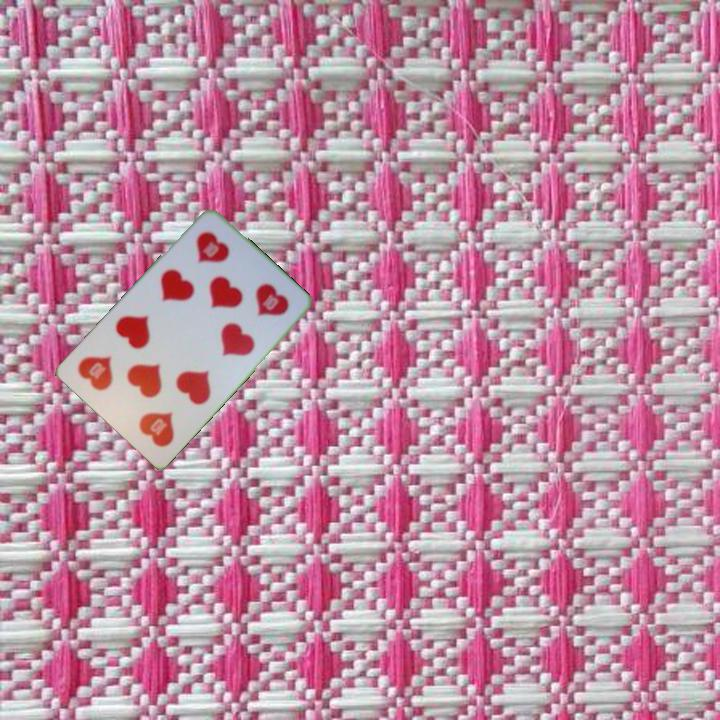h_10.png: (171, 217, 257, 303), (112, 371, 198, 457)
